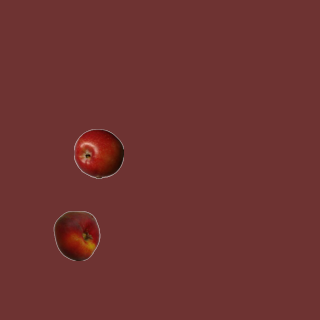Apple Braeburn: (73, 128, 123, 178)
Nectarine Flat: (51, 210, 101, 260)
